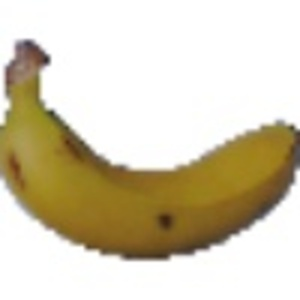banana: (3, 33, 297, 264)
